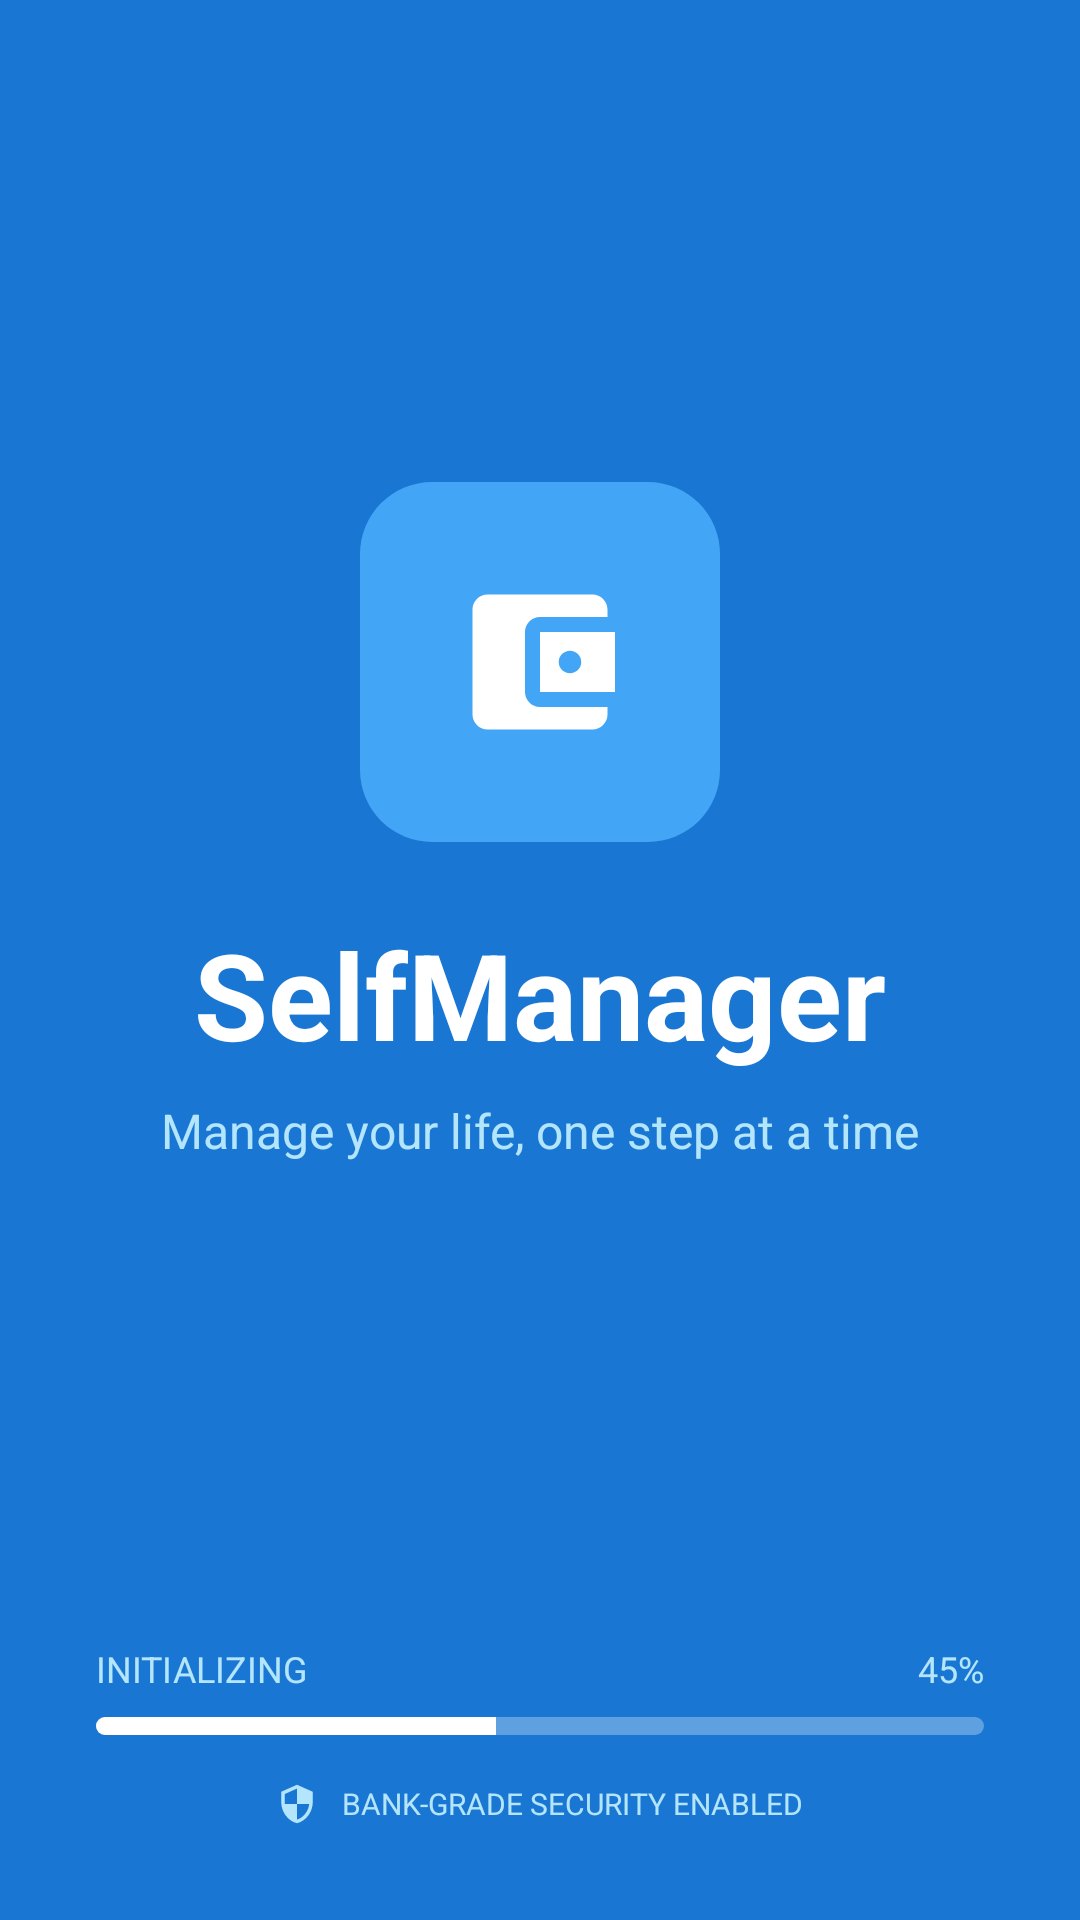

Where to tap for icons on this 1080*1920 app screen, as [x,y]:
shield: [297,1804]
wallet: [543,662]
